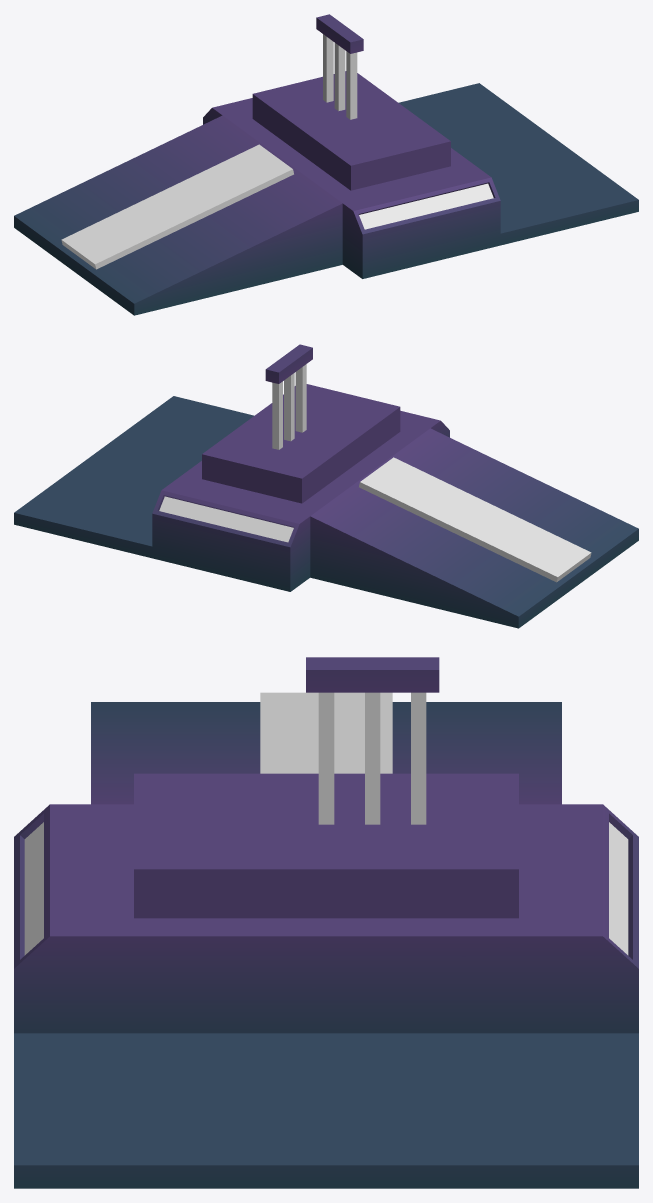
3 views of the same model, one above another, from view 1: azimuth 30°, elevation 25°; view 2: azimuth 150°, elevation 25°; view 3: azimuth 270°, elevation 25° (orthographic). The views are drawn at different scales.
Parts seen in each view (by area): view 1: Cube.159; view 2: Cube.159; view 3: Cube.159.
Boxes of the visible parts, x1=… form: Cube.159: x1=14, y1=14, x2=638, y2=315; Cube.159: x1=14, y1=344, x2=638, y2=628; Cube.159: x1=14, y1=657, x2=638, y2=1188.
Bounding box in the file's own units: 47.56 × 15.64 × 27.11.
